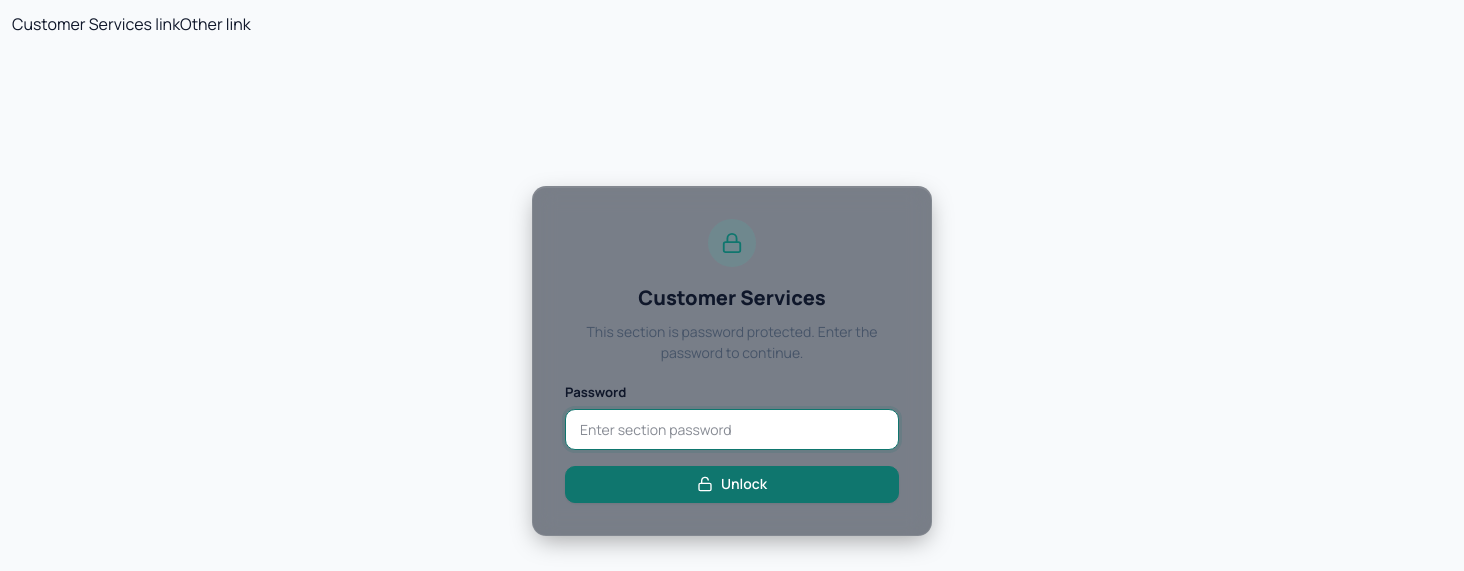
Test: CustomerServices › unlocks, then lists entries with the section token
Step 1. Type "secret" into the password field labelled "Password" → (732, 429), box [565,409,899,450]
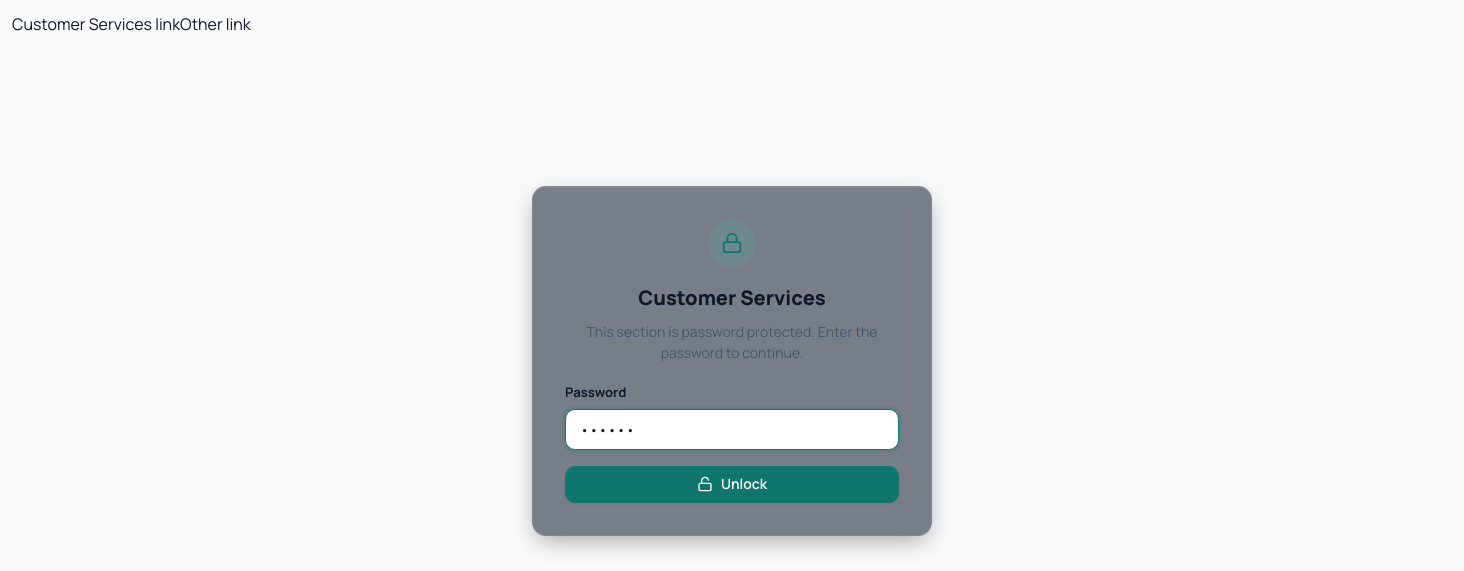
Step 2. Click the button "Unlock" → click(732, 484), box [565,466,899,503]
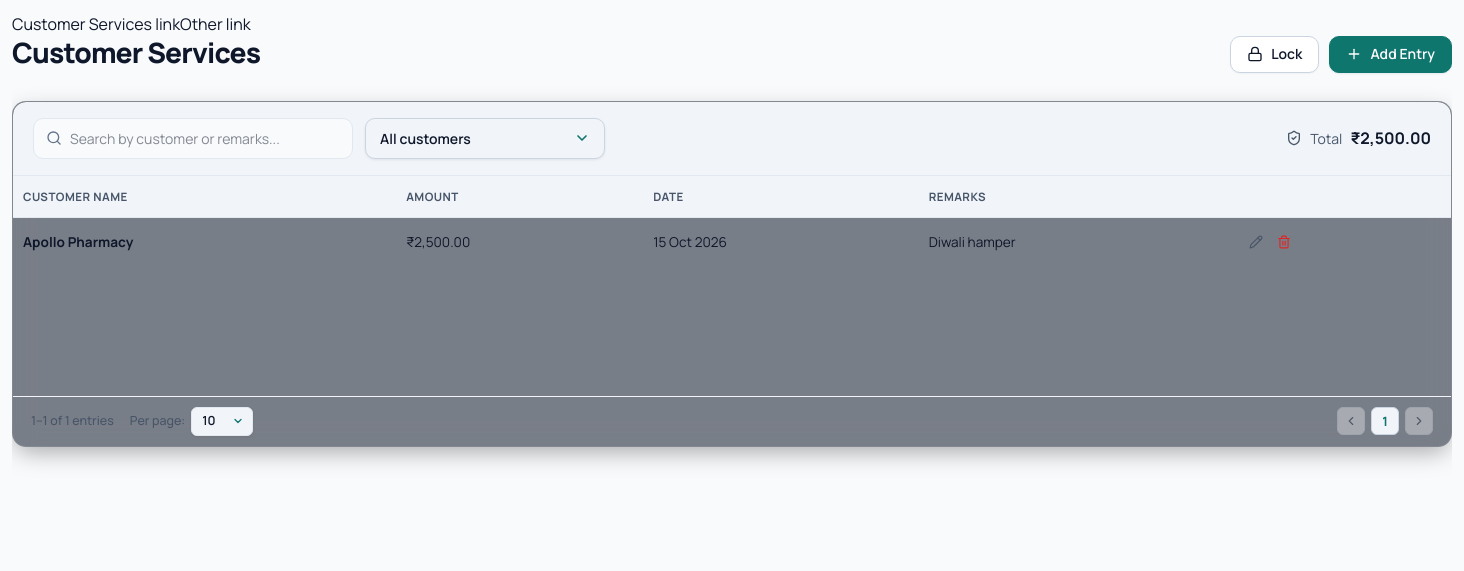
Result: the text "Diwali hamper" is shown at [919,218,1233,266]
